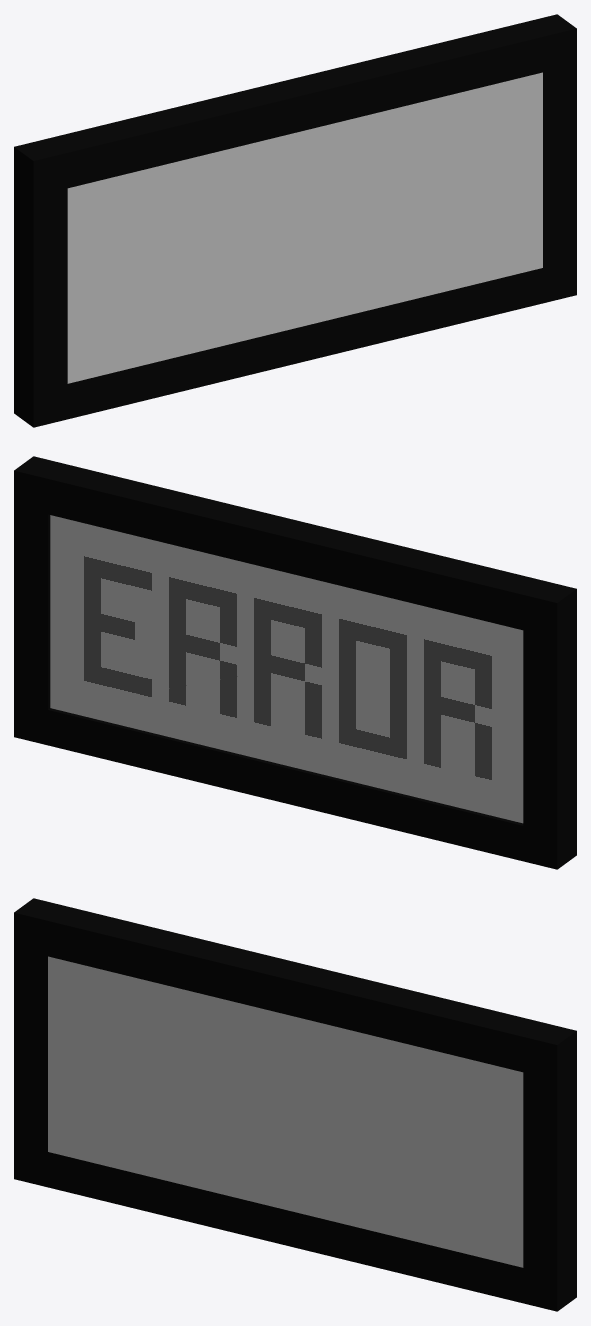
File: frame.gltf
3 renders of one model, top to bottom at view 1: azimuth 30°, elevation 25°; view 2: azimuth 150°, elevation 25°; view 3: azimuth 330°, elevation 25°, orthographic.
Parts seen in each view (by area): view 1: cube (×5); view 2: cube (×5); view 3: cube (×5).
Part boxes in pixels (box(x1,y1,x2,y2)): cube (×5): box(14, 14, 576, 427); cube (×5): box(14, 456, 576, 869); cube (×5): box(14, 898, 576, 1311).
Bounding box in the file's own units: 2 × 0.9375 × 0.125.
1 material, 1 textured.
